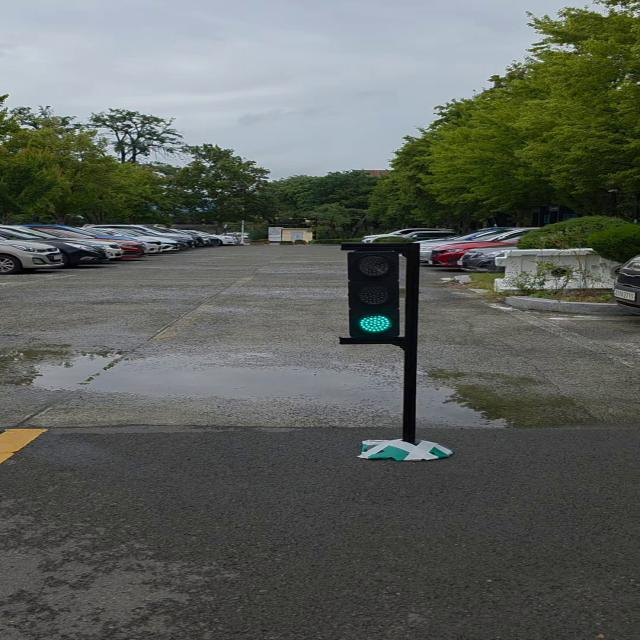green: (348, 246, 412, 346)
